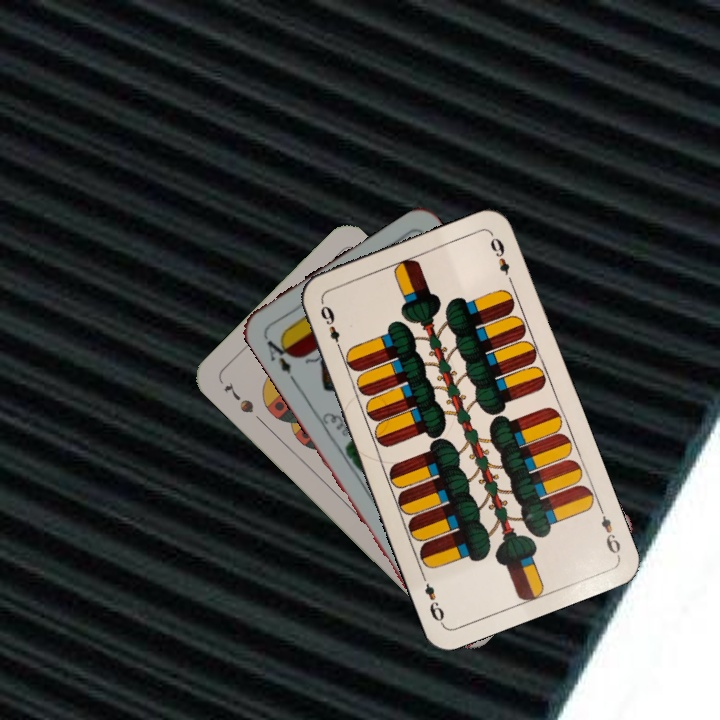E9: (316, 298, 345, 355), (594, 502, 623, 559)
EA: (260, 332, 297, 377)
S7: (219, 377, 257, 416)
